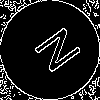N: (25, 25, 83, 81)
